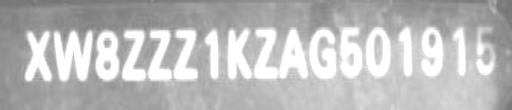letter: (52, 28, 94, 82), (278, 25, 308, 80), (22, 28, 52, 82), (120, 27, 148, 83), (224, 25, 252, 80), (252, 25, 280, 80), (309, 25, 337, 80), (172, 27, 200, 80), (364, 25, 392, 77), (472, 24, 498, 77), (339, 24, 363, 80), (147, 27, 171, 80), (96, 29, 120, 82), (393, 23, 417, 75), (420, 25, 444, 77), (202, 27, 222, 82), (448, 23, 468, 75)
